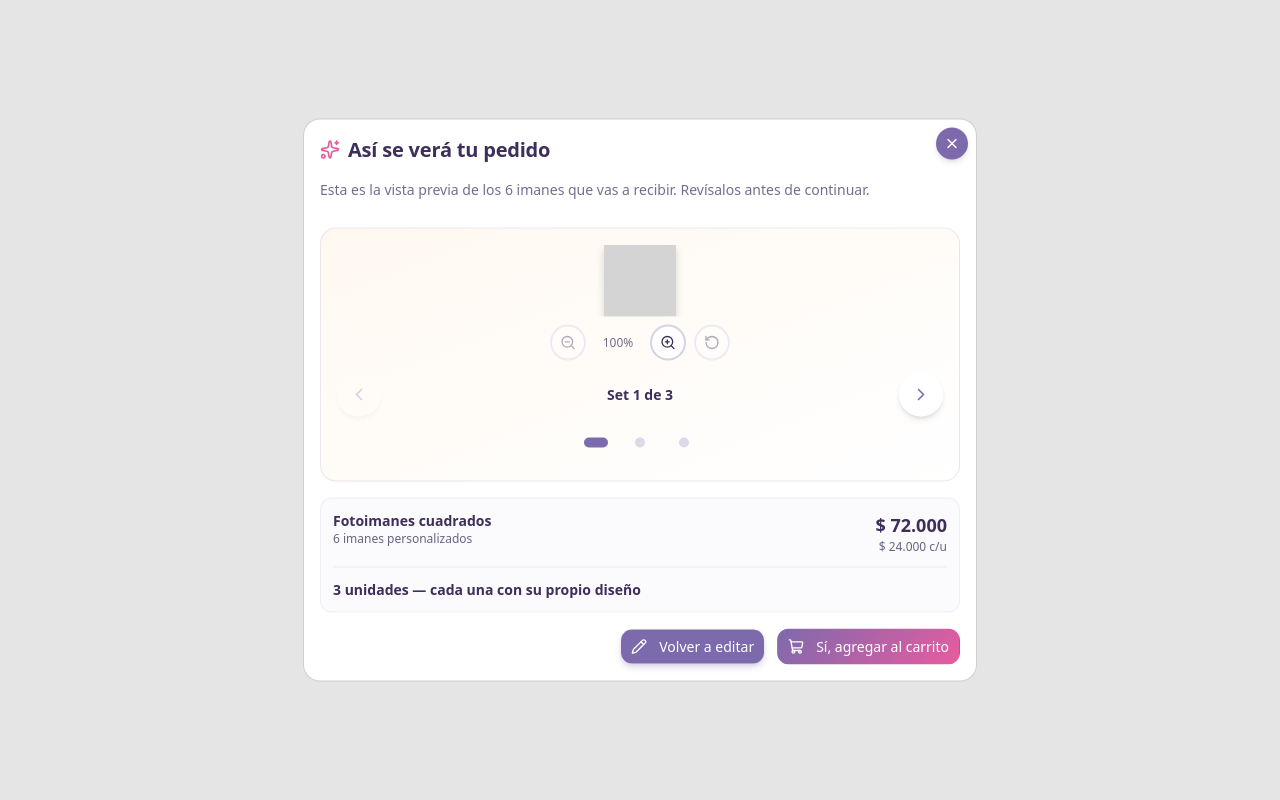
StudioPreviewModal — Vista Previa PAGINADA por unidad (Fase 2 · item 2.2) › flechas y dots navegan; la flecha se deshabilita en los extremos (sin wrap)
Click the button named "Unidad siguiente": (921, 394) [899, 372, 943, 416]
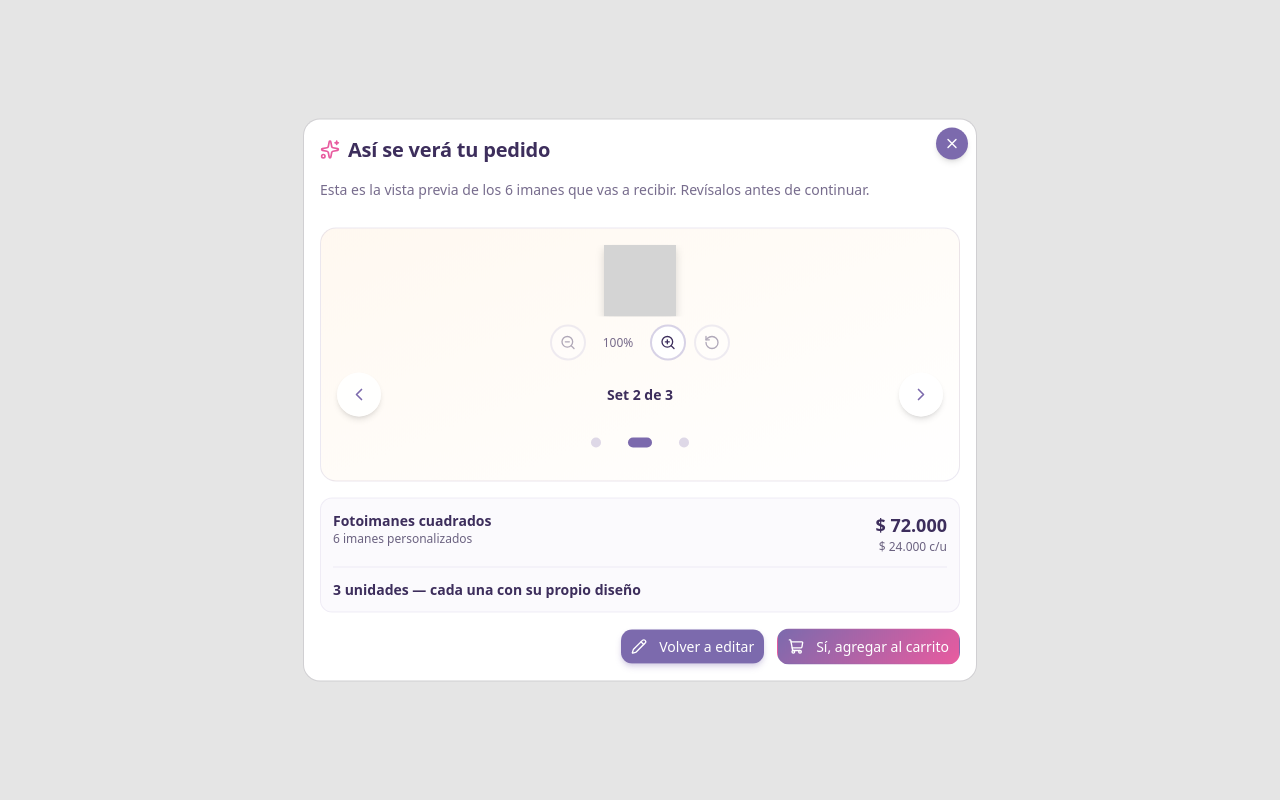
expect the text "Set 2 de 3" is shown: met, box [607, 384, 673, 404]
# Dot directo a la última → "siguiente" queda deshabilitada (no envuelve).
Click the tab named "Set 3 de 3": (684, 442) [662, 420, 706, 464]
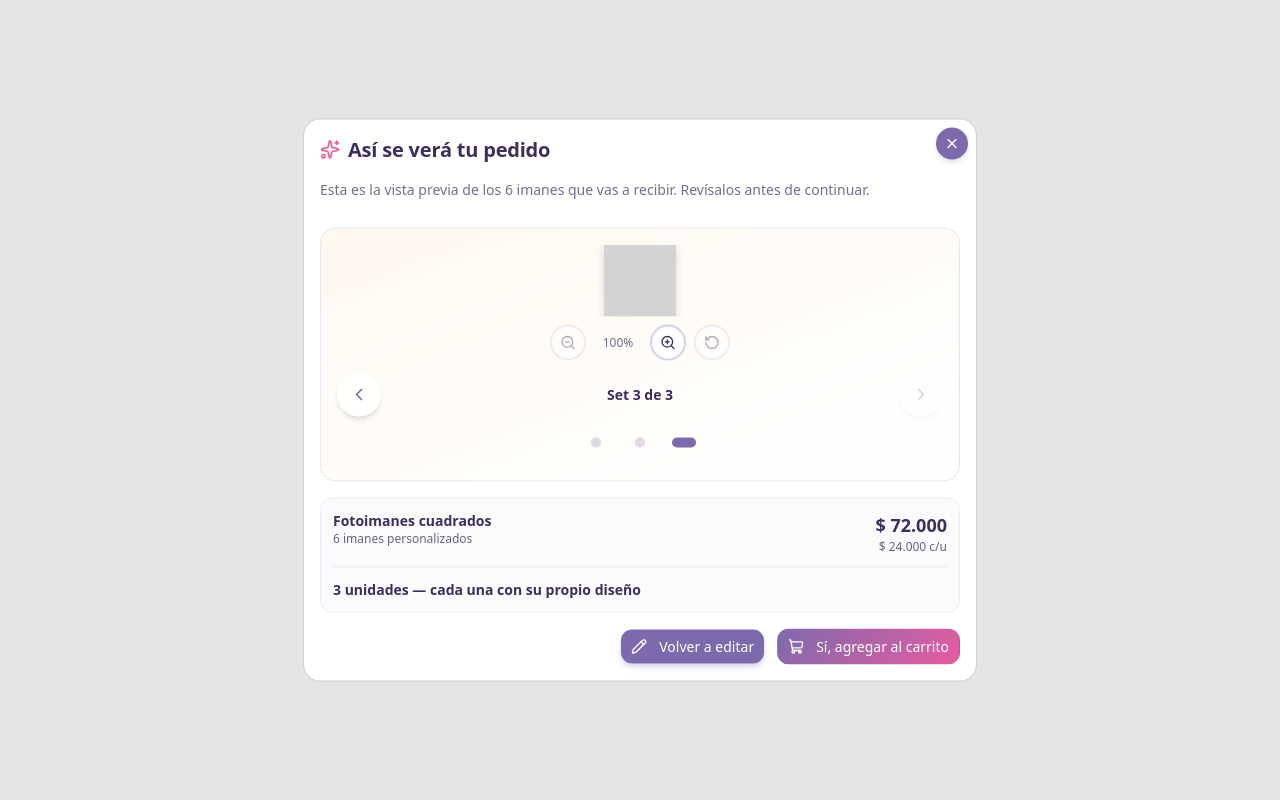
expect the button named "Unidad anterior" is enabled: met, box [337, 372, 381, 416]
expect the text "Set 3 de 3" is shown: met, box [607, 384, 673, 404]
expect the button named "Unidad siguiente" is disabled: met, box [899, 372, 943, 416]
